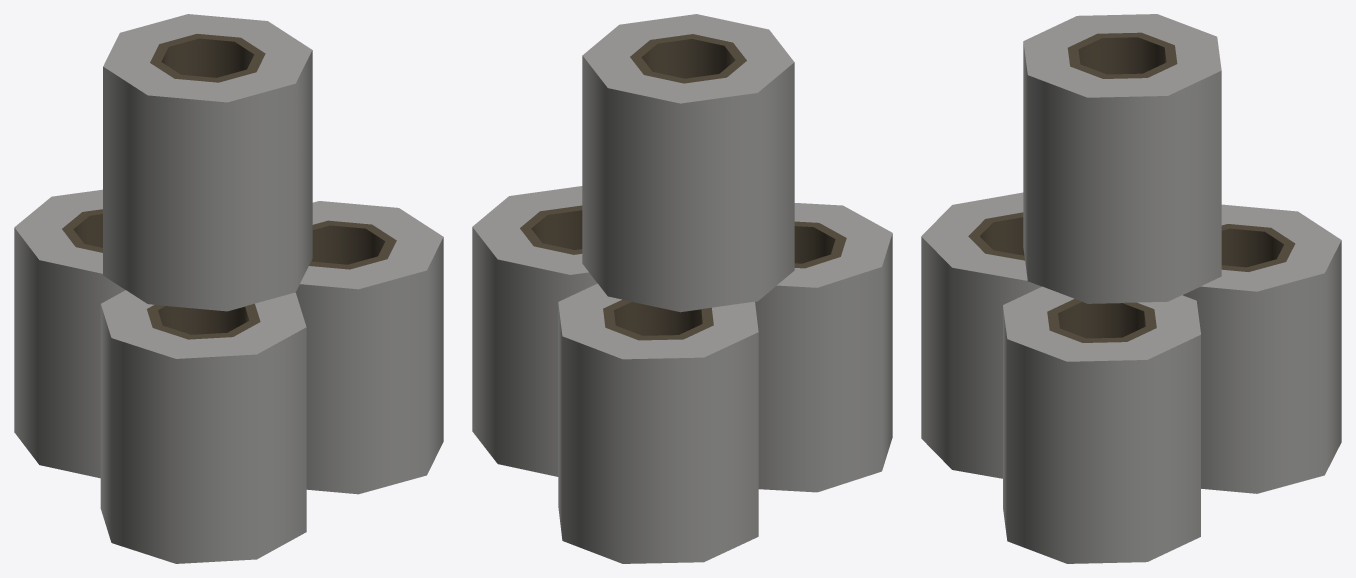
The model's file is Toilet Paper Pile.glb.
The picture shows the model from 3 angles, left to right: view 1: azimuth 30°, elevation 25°; view 2: azimuth 150°, elevation 25°; view 3: azimuth 270°, elevation 25°; orthographic projection.
Parts seen in each view (by area): view 1: Bathroom_ToiletPaperPile_Cylinder.010; view 2: Bathroom_ToiletPaperPile_Cylinder.010; view 3: Bathroom_ToiletPaperPile_Cylinder.010.
Part boxes in pixels (left/top/right/bottom): Bathroom_ToiletPaperPile_Cylinder.010: left=14, top=14, right=443, bottom=563; Bathroom_ToiletPaperPile_Cylinder.010: left=472, top=14, right=892, bottom=563; Bathroom_ToiletPaperPile_Cylinder.010: left=921, top=14, right=1341, bottom=563.
Size of the model in its own units: 0.3345 by 0.3747 by 0.3498.
